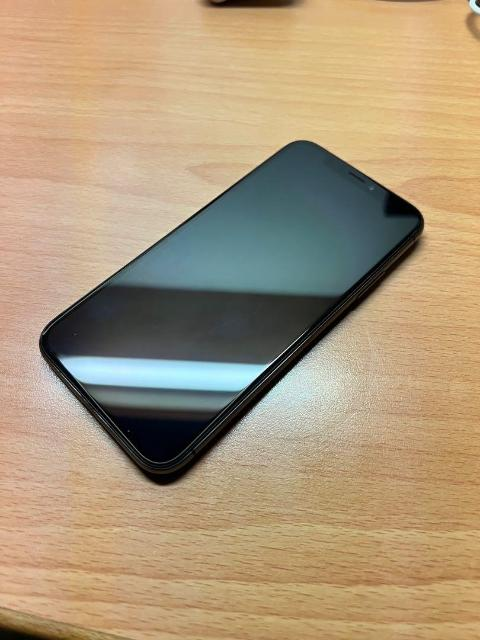phone good: (35, 134, 437, 507)
